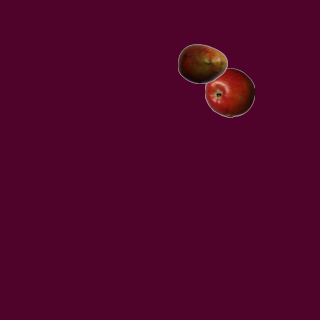Apple Braeburn: (204, 67, 254, 117)
Mango Red: (177, 38, 227, 88)
